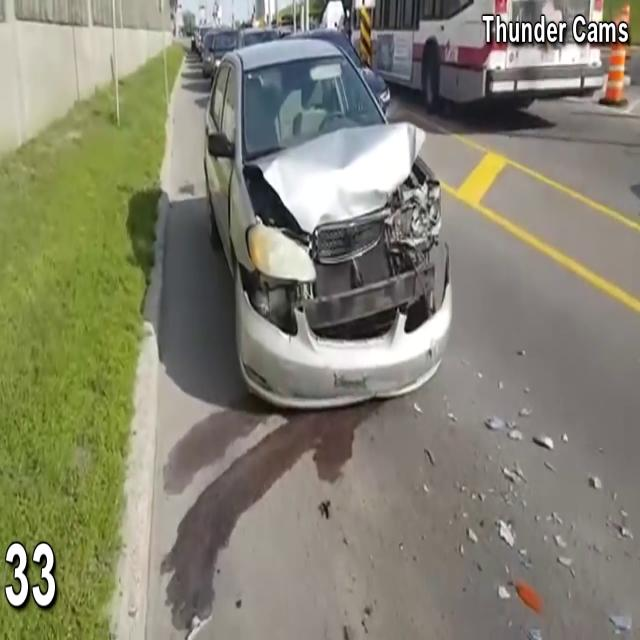accident: (200, 49, 468, 406)
